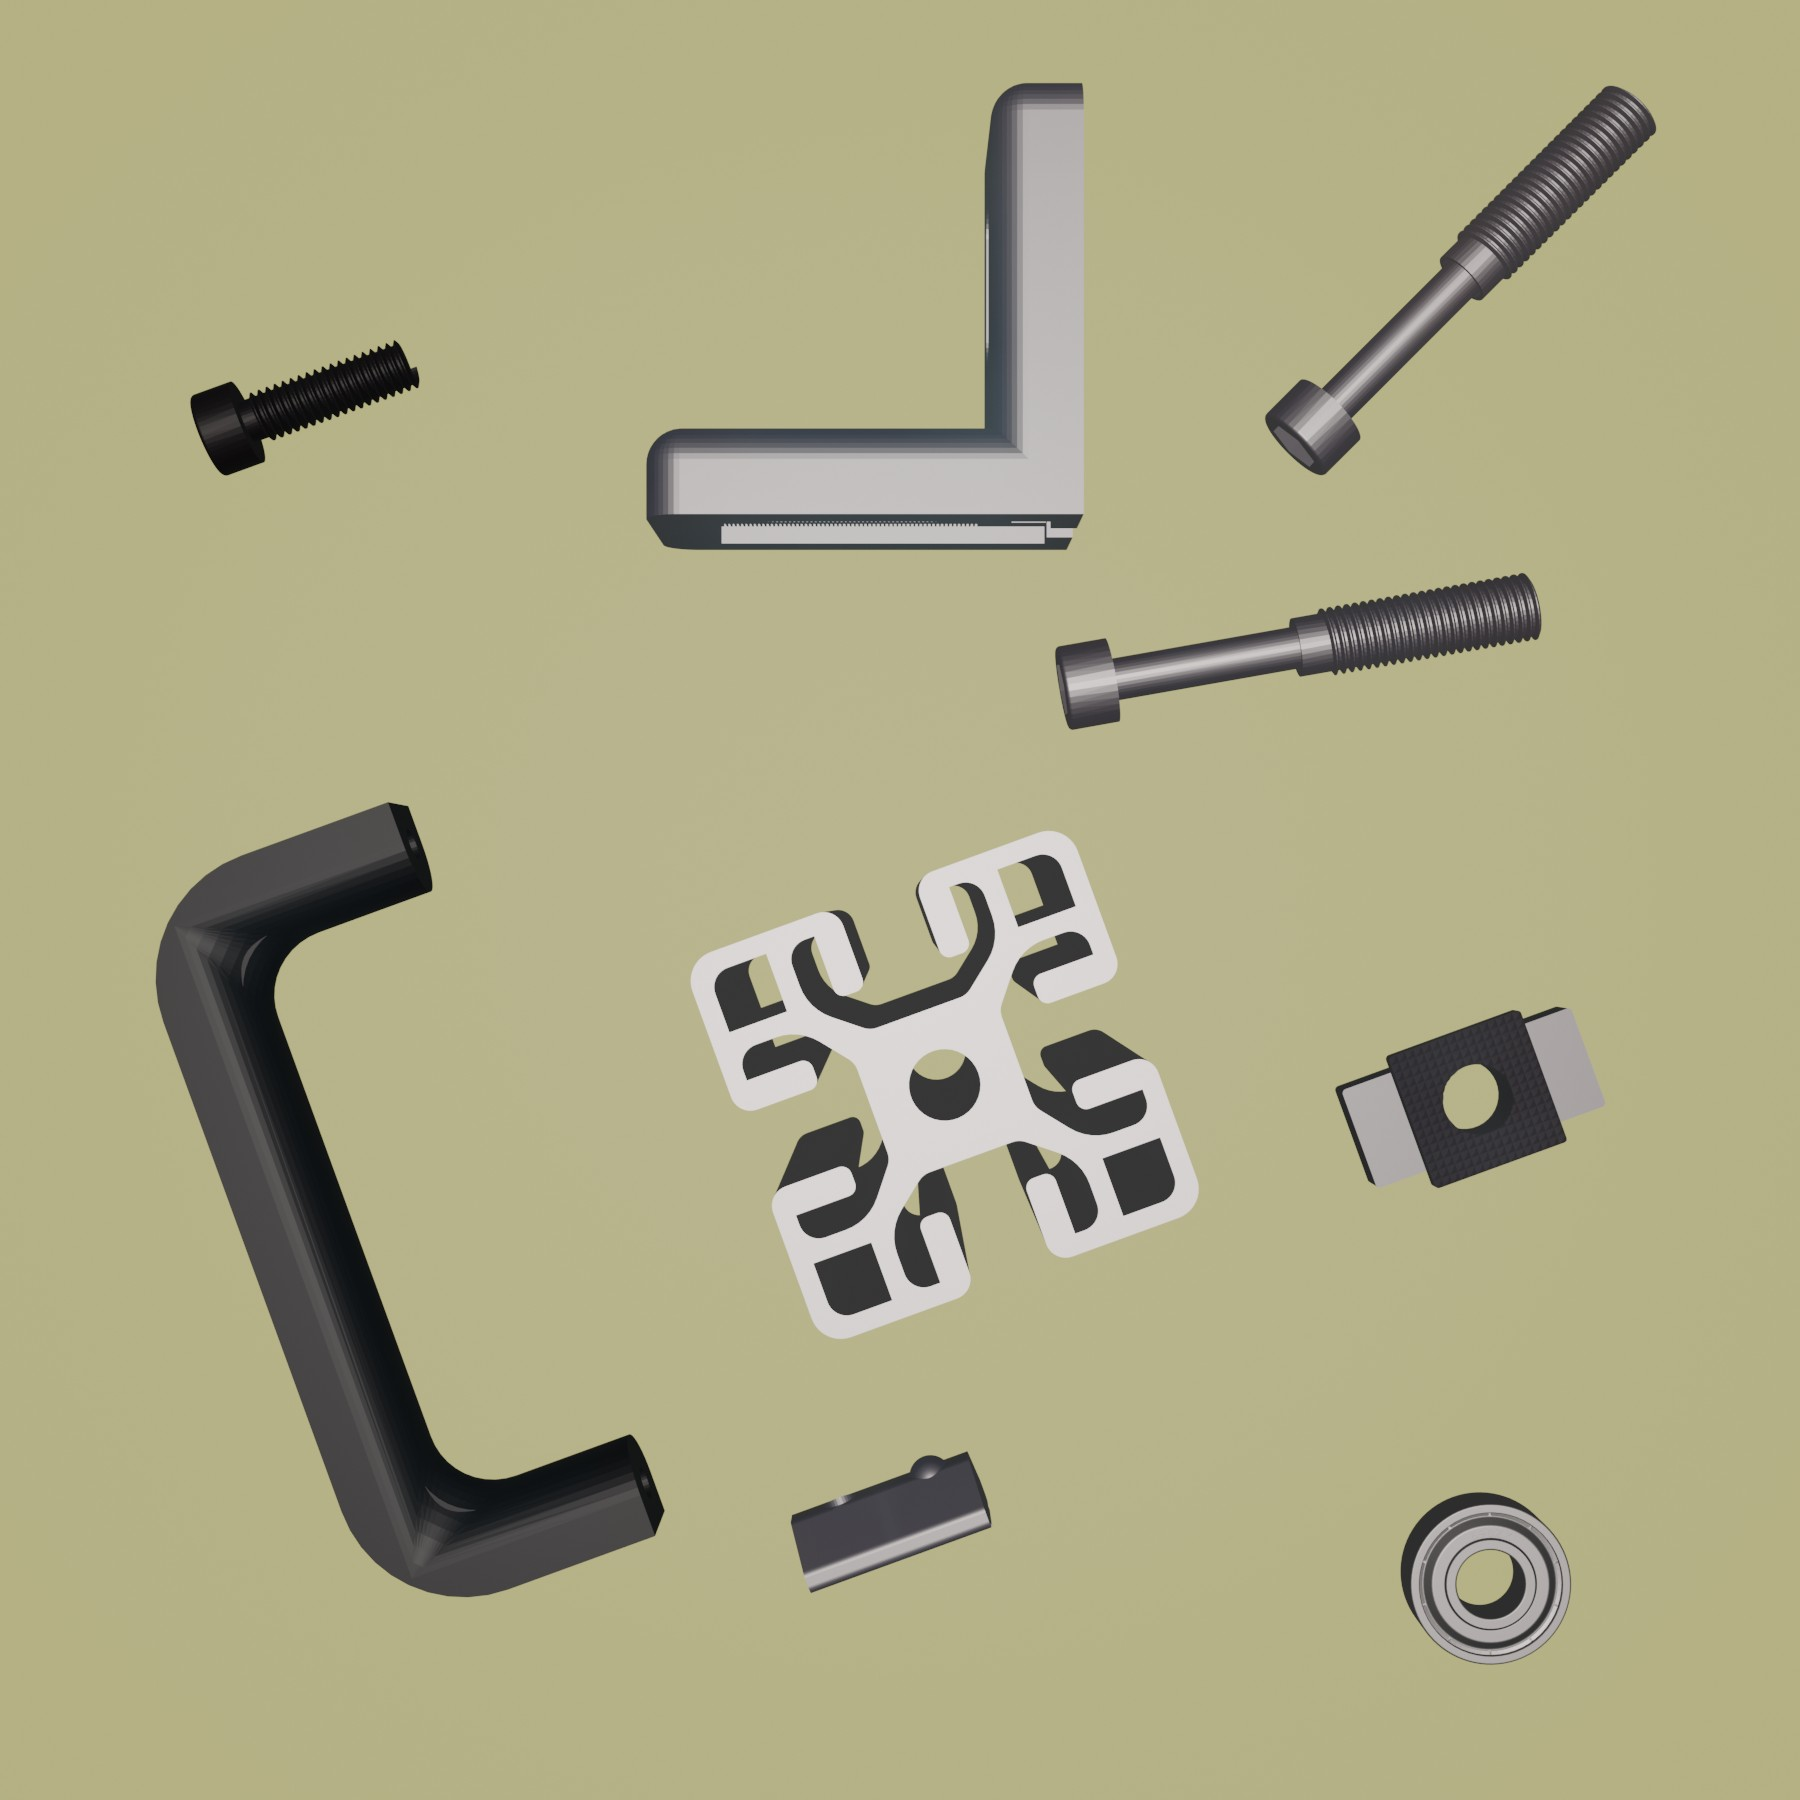Aluminium Extension: (687, 827, 1202, 1342)
Ball Bearing: (1398, 1488, 1574, 1668)
Multiwinkel: (643, 77, 1091, 552)
Pull Handle: (152, 795, 668, 1599)
Shoulder Socket Head Cap Screw: (1264, 84, 1662, 480), (1052, 569, 1545, 732)
Socket Head Cap Screw: (188, 338, 424, 478)
T Nut Square: (1332, 1001, 1614, 1188)
T Spring Nut: (790, 1447, 994, 1597)
